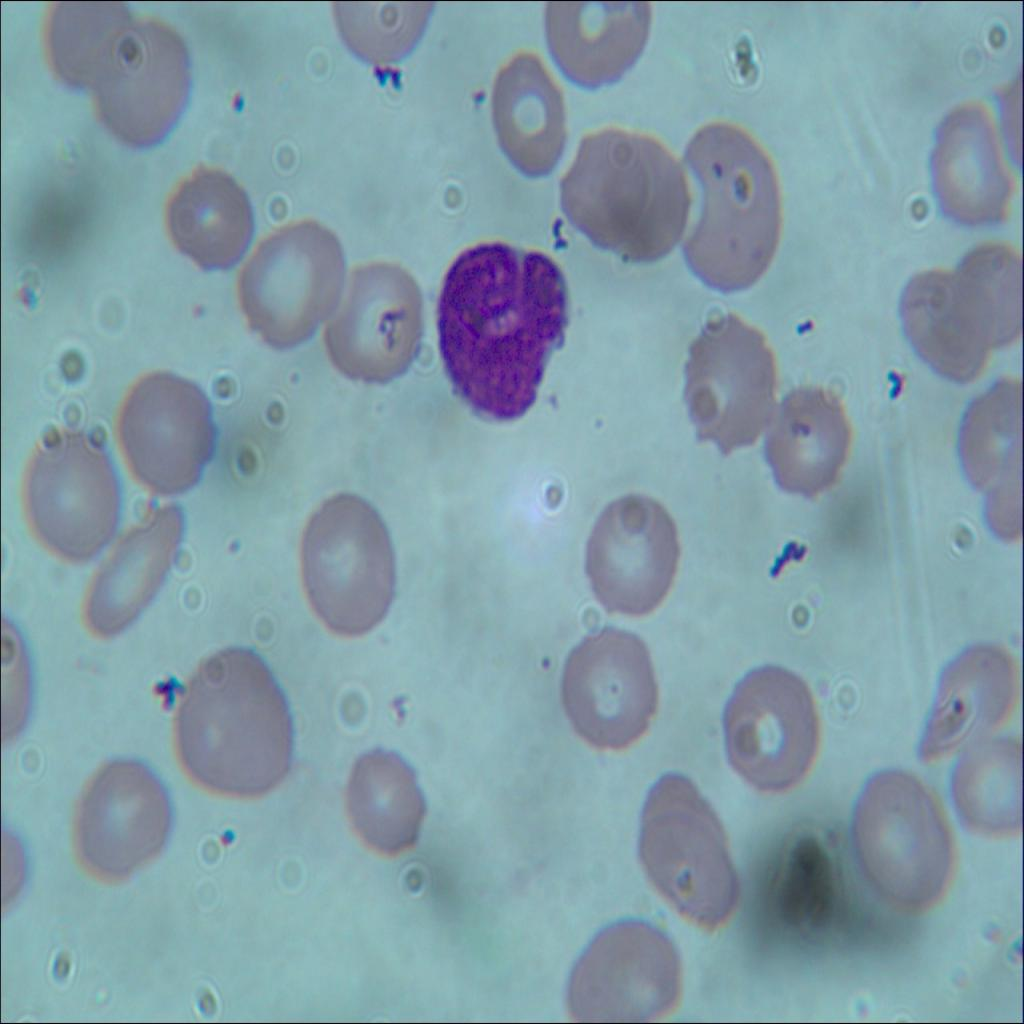Eritrosit: (178, 645, 296, 801), (226, 211, 346, 351), (848, 765, 956, 917), (684, 120, 779, 286), (298, 482, 398, 639), (558, 904, 682, 1023), (66, 754, 178, 885), (314, 258, 426, 388), (561, 616, 663, 758), (111, 358, 215, 497), (22, 418, 122, 561), (580, 487, 682, 624), (81, 501, 183, 635), (724, 659, 818, 801), (923, 98, 1021, 232), (479, 37, 571, 178), (898, 254, 992, 392), (94, 22, 196, 148), (692, 301, 778, 449), (156, 154, 256, 280), (921, 642, 1016, 766), (338, 741, 431, 858), (606, 139, 689, 258), (655, 815, 741, 929), (540, 0, 646, 91), (559, 124, 648, 230), (941, 721, 1023, 834), (768, 388, 851, 497), (946, 232, 1023, 342), (954, 372, 1023, 492), (46, 0, 134, 94), (638, 772, 715, 876)
Limfoblast: (426, 239, 573, 428)
Platelet: (218, 76, 258, 128), (182, 291, 220, 338), (218, 808, 240, 858), (461, 72, 490, 109), (534, 642, 558, 682), (582, 404, 606, 431)
